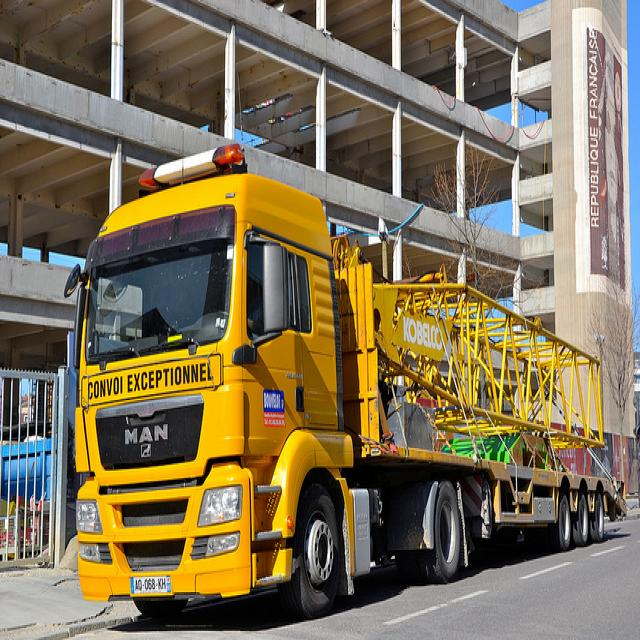Vehicle: (64, 143, 631, 632)
